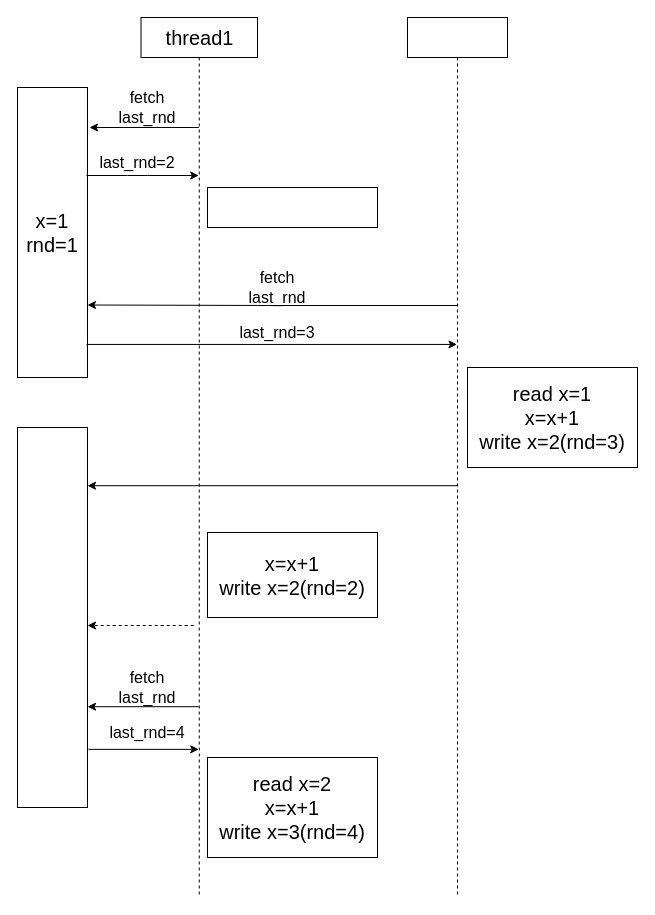
The diagram is 655 pixels wide and 915 high, and some of its shapes have lost their labels. The shapes that lost their labels are listed below. From the top down, each one's box as (x1, y1, x2, y2) in pixels, then its label:
(206, 186, 378, 228): read x=1
(406, 16, 508, 898): thread2
(16, 426, 88, 808): x=2 rnd=3
